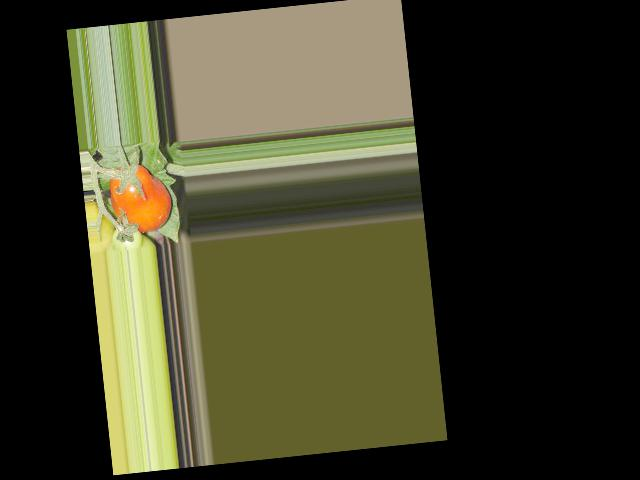tomato: (107, 160, 174, 235)
